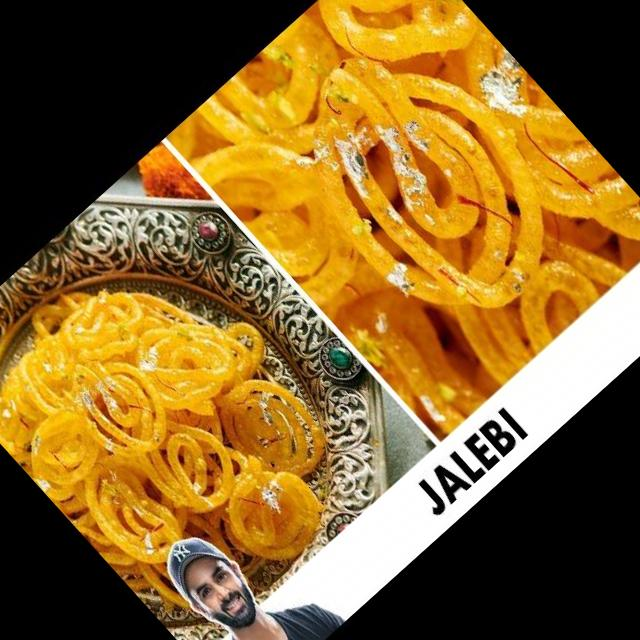jalebi: (175, 0, 640, 435), (0, 212, 332, 604)
